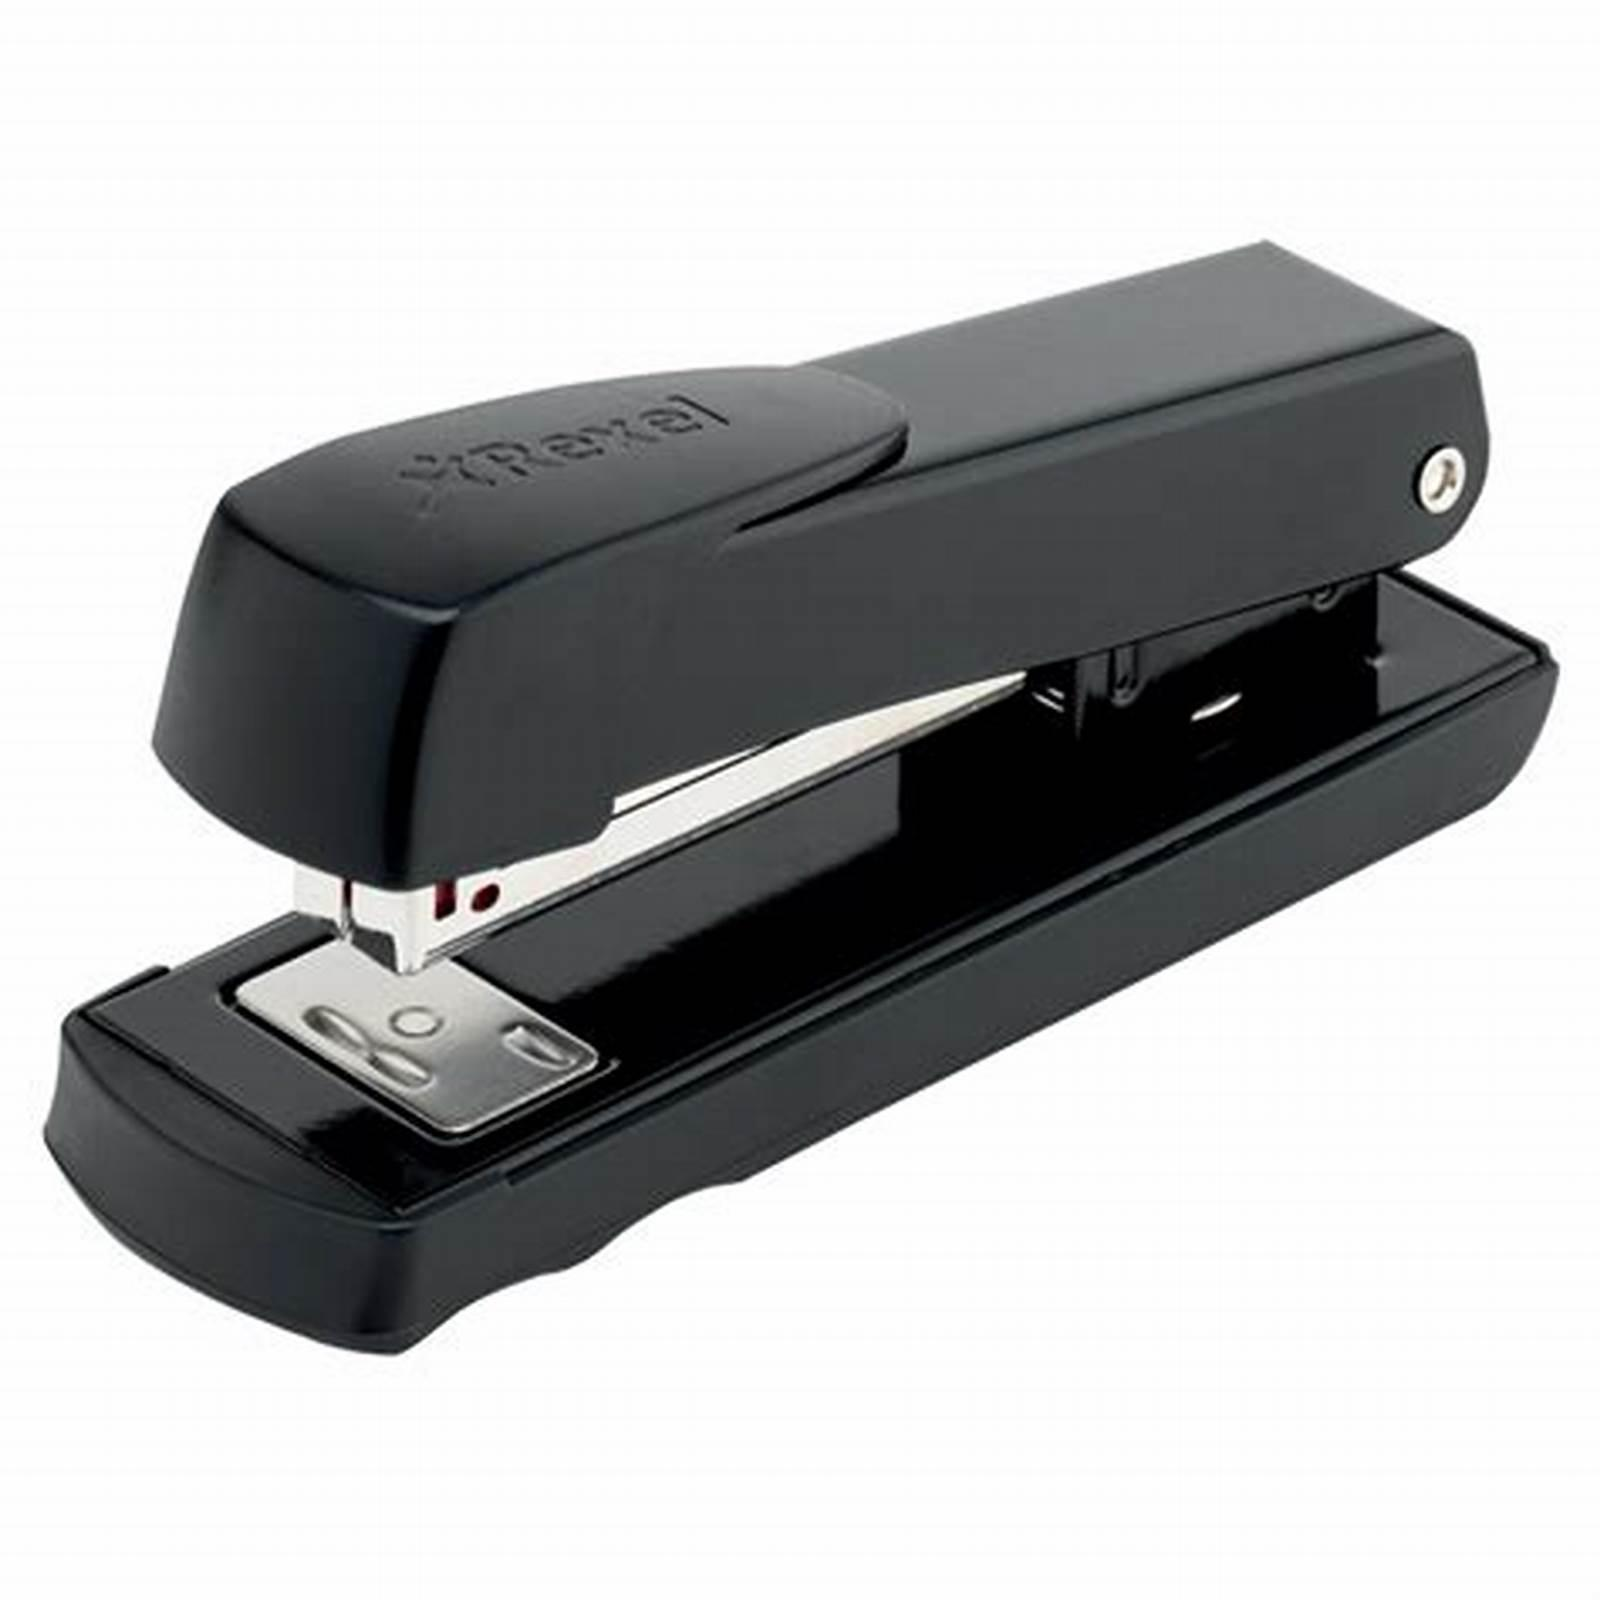Stapler: (44, 243, 1596, 1382)
